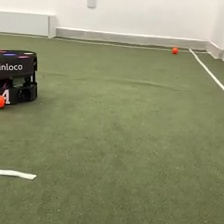ball: (170, 45, 179, 55), (1, 93, 6, 109)
goal: (1, 10, 58, 39)
robot: (1, 48, 40, 107)
